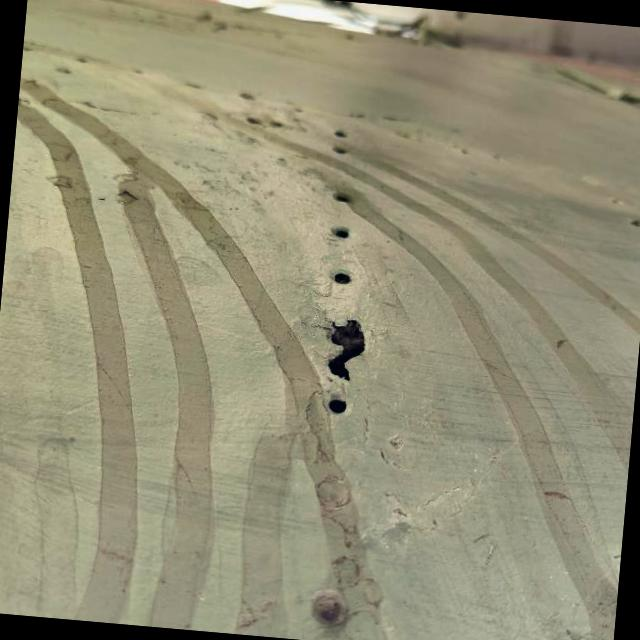crack: (288, 289, 394, 399)
